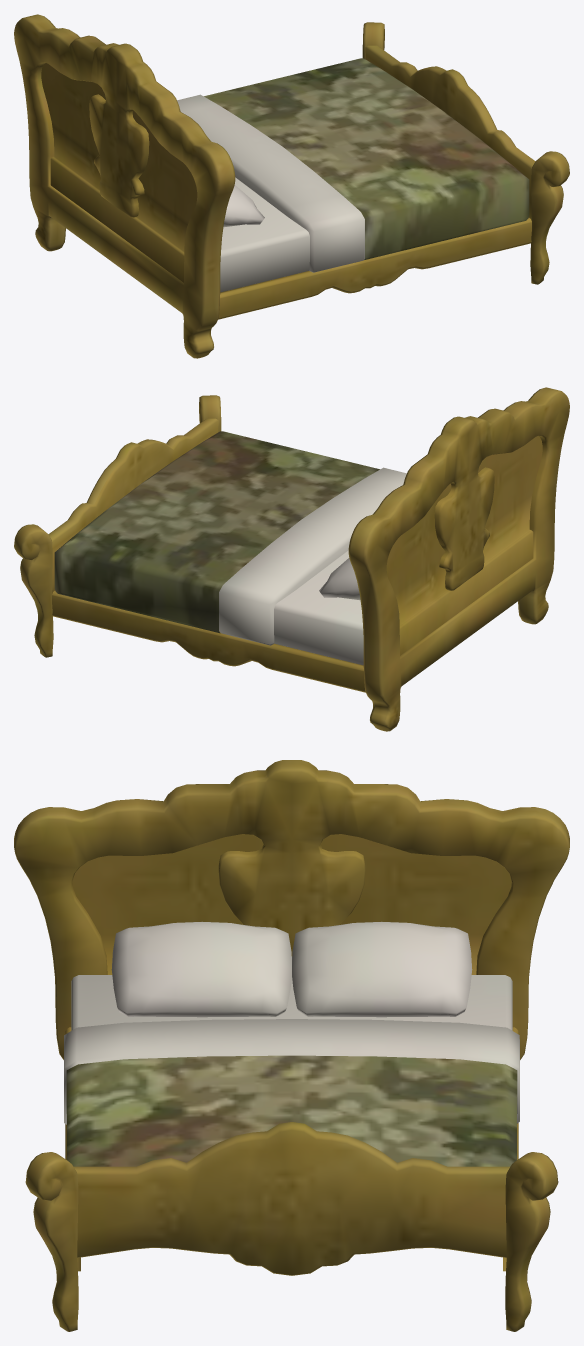
3 views of the same model, one above another, from view 1: azimuth 30°, elevation 25°; view 2: azimuth 150°, elevation 25°; view 3: azimuth 270°, elevation 25° (orthographic). The views are drawn at different scales.
Bounding box in the file's own units: 19.34 × 13 × 18.97.
Materials: 2 (2 with a texture image).
